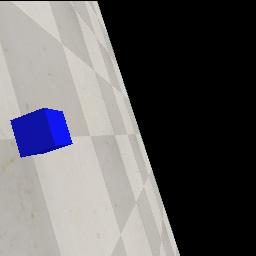box: (10, 108, 73, 157)
